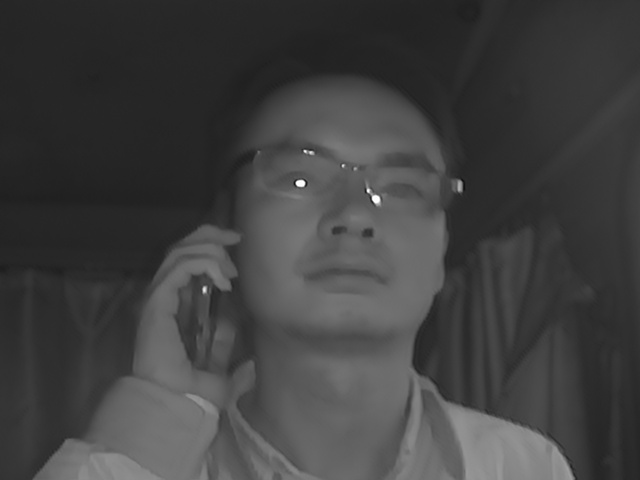hand: (129, 222, 244, 399)
